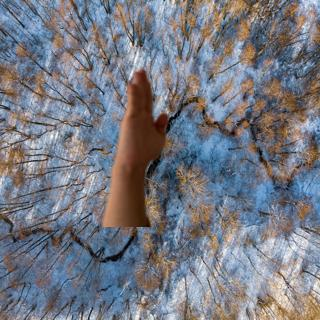RIGHT: (106, 64, 171, 174)
